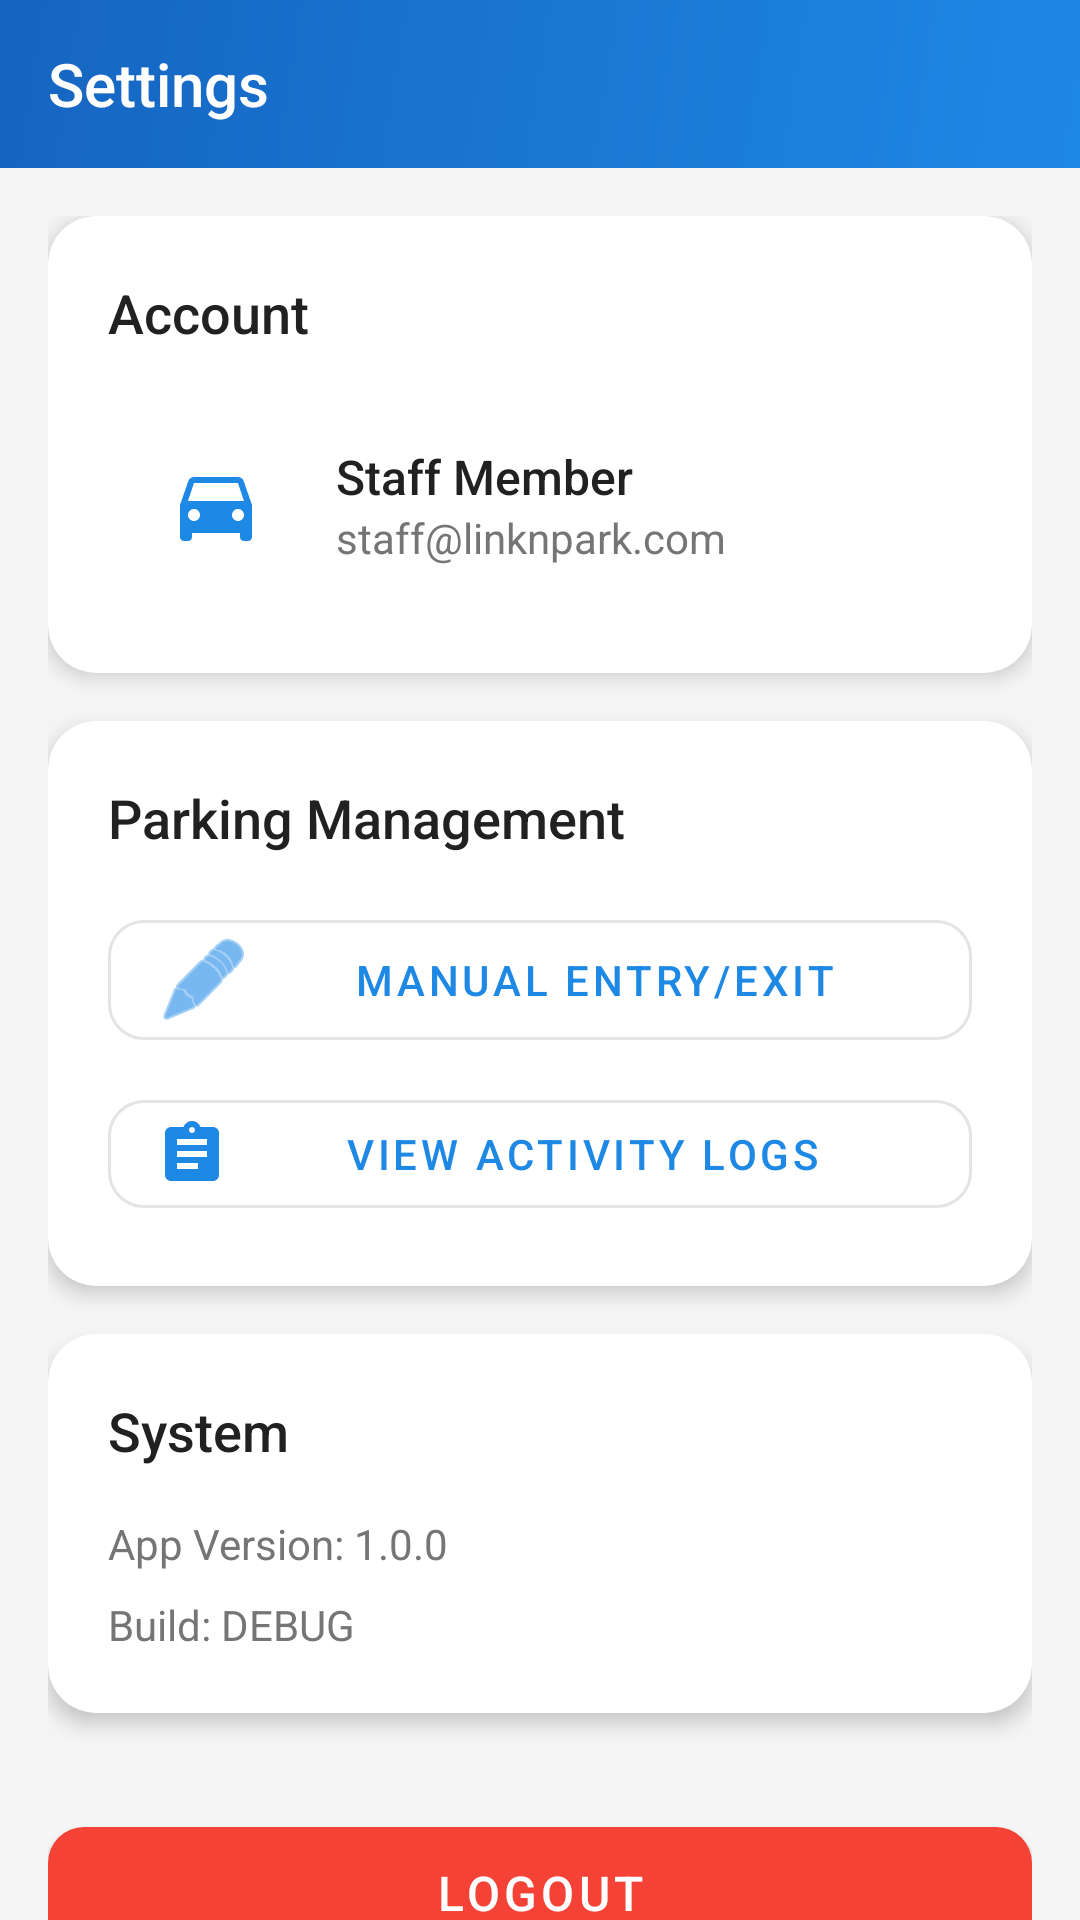

Icons on this 1080px×1920px Android screen, each with the point to tap as [x,y]:
car: [216,509]
